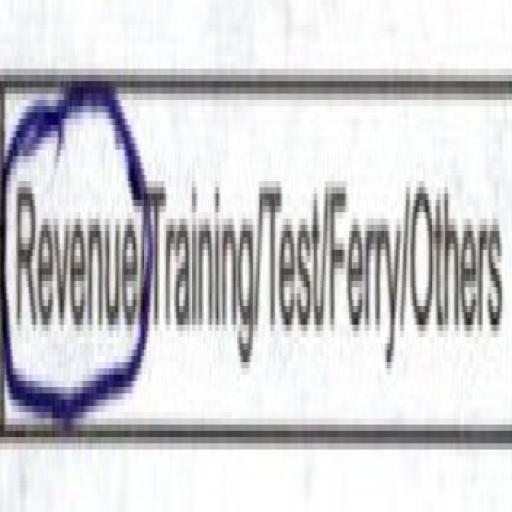check: (0, 0, 144, 472)
